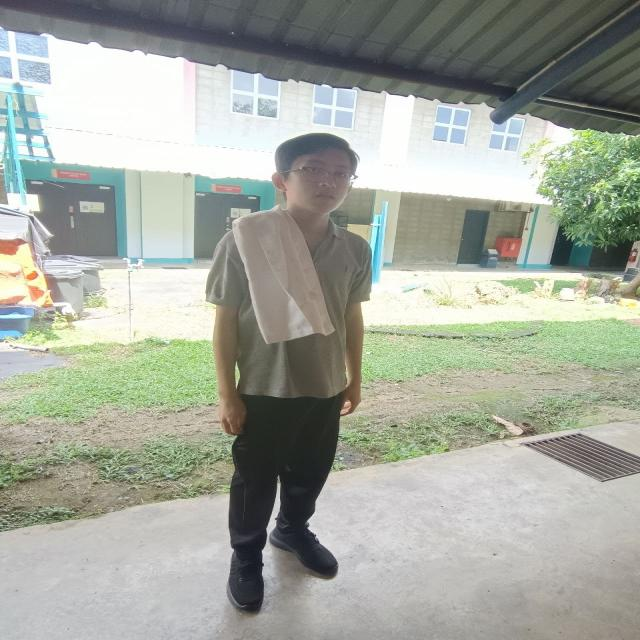person_without_labcoat: (207, 134, 371, 610)
